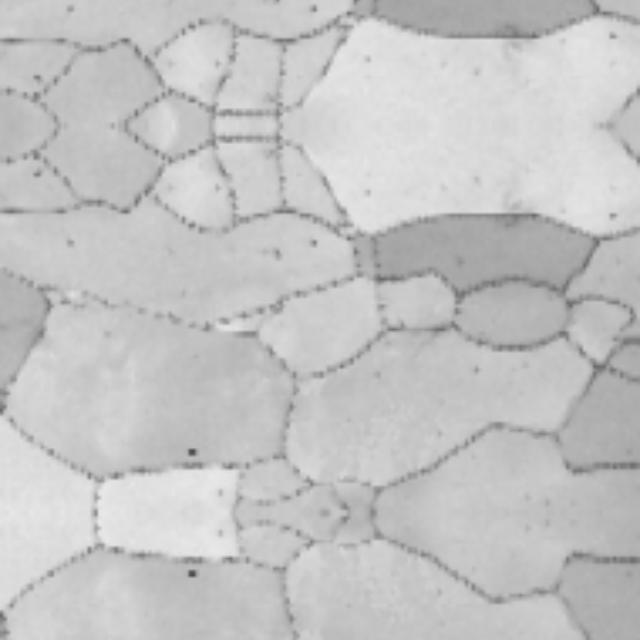good_void: (262, 245, 282, 263), (605, 210, 624, 223), (605, 30, 624, 43), (61, 238, 79, 251), (29, 166, 44, 181), (29, 72, 44, 87), (184, 448, 202, 460), (184, 568, 202, 580), (61, 3, 79, 15), (470, 360, 481, 379), (212, 180, 224, 195), (212, 58, 224, 73), (262, 0, 282, 8), (308, 238, 320, 251), (308, 3, 320, 15), (361, 190, 374, 201), (361, 52, 374, 63)
